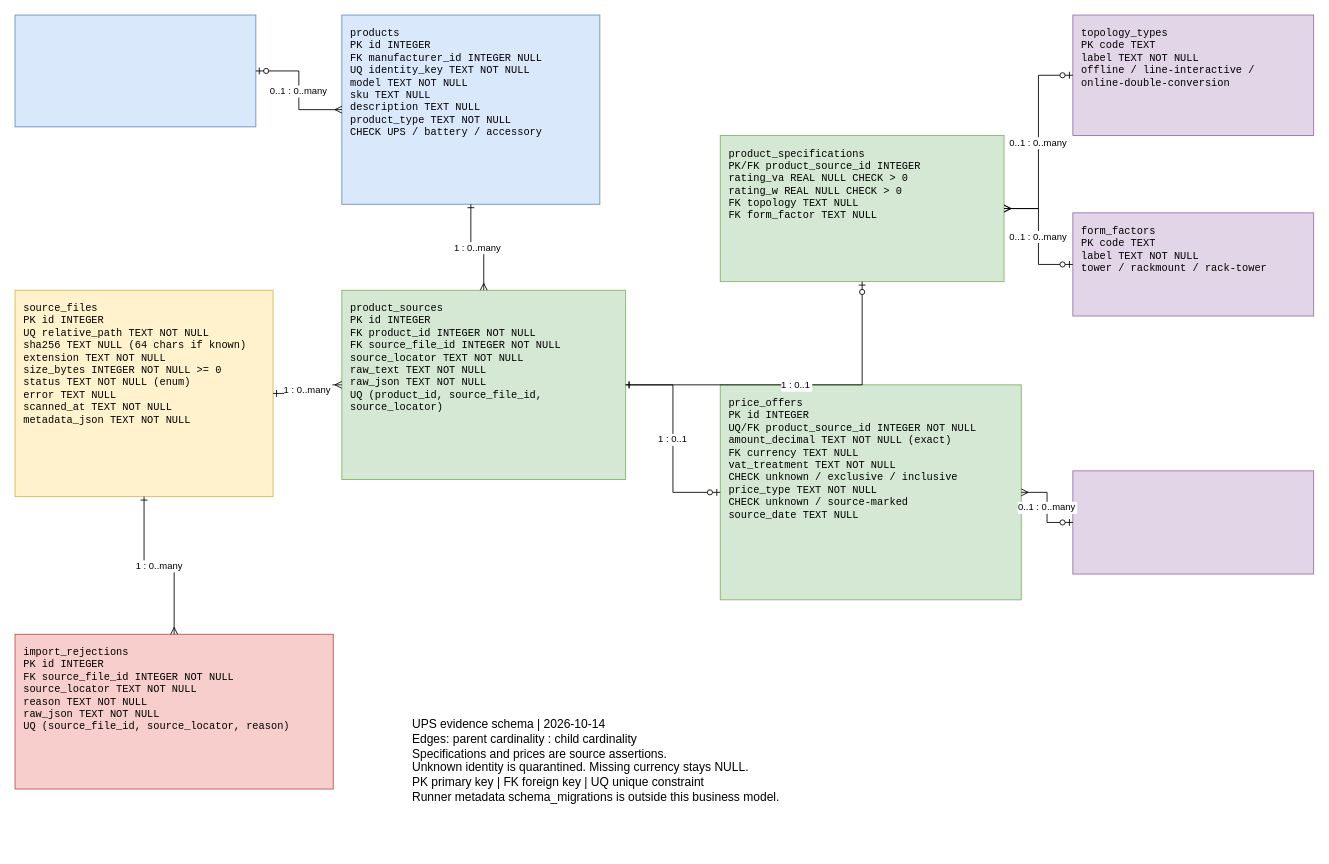
This 1329x864 diagram has some shape labels left out. The shapes that lost their labels are listed below. From the top down, each one's box as (x1, y1, x2, y2) in pixels, then its label:
(14, 14, 256, 127): manufacturers PK id INTEGER name TEXT NOT NULL UQ canonical_key TEXT NOT NULL
(1072, 470, 1314, 574): currencies PK code TEXT (3 chars) label TEXT NOT NULL THB / USD / EUR
